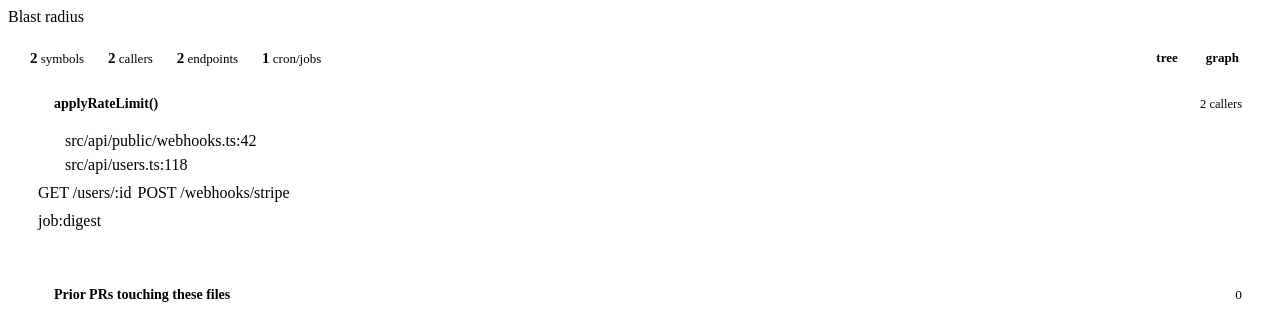
Test: BlastRadiusPanel › toggles between the tree and graph views (P3-b)
Check: the button "tree" is shown, box x1=1142 y1=45 x2=1192 y2=71
Step 1. Click the button "graph" → (1222, 58), box x1=1192 y1=45 x2=1253 y2=71
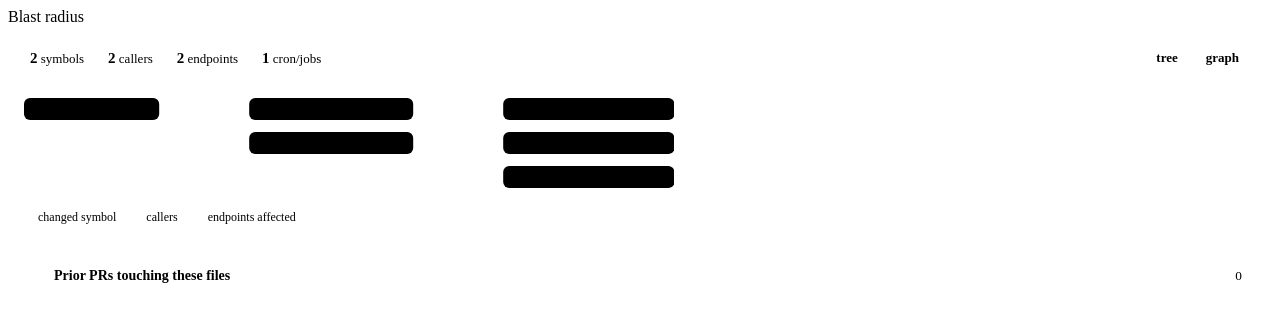
Check: the picture named "Blast radius graph" is shown, box x1=24 y1=86 x2=674 y2=200
